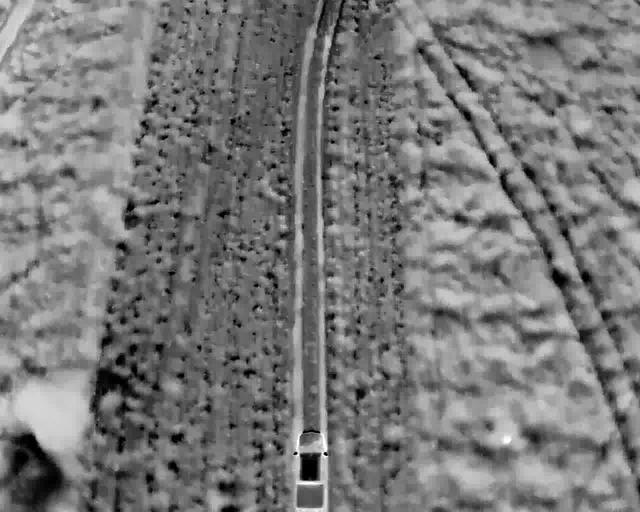car: (304, 48, 329, 84), (300, 0, 326, 19)
person: (292, 12, 304, 31), (323, 0, 334, 20), (293, 0, 304, 20)
